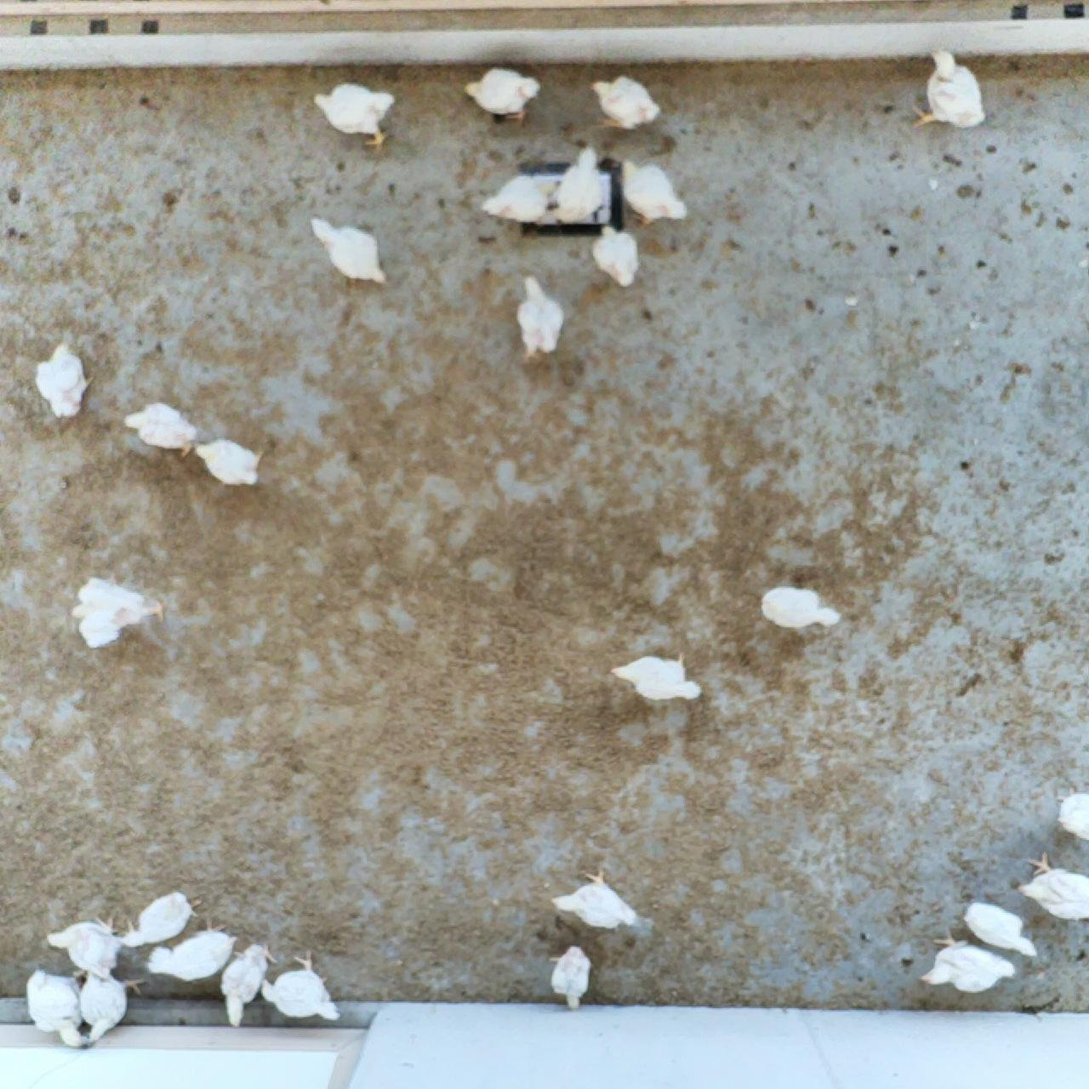chicken: (71, 577, 162, 649), (918, 928, 1012, 994), (308, 218, 391, 285), (148, 921, 237, 981), (547, 869, 637, 927), (918, 49, 984, 128), (316, 81, 396, 145), (263, 950, 339, 1015), (1023, 850, 1089, 924), (121, 402, 204, 460), (35, 338, 94, 419), (77, 971, 145, 1041), (620, 159, 690, 226), (480, 173, 567, 226), (220, 943, 274, 1028), (614, 651, 700, 704), (516, 275, 565, 368), (25, 972, 85, 1046), (961, 898, 1036, 957), (47, 919, 120, 978), (467, 66, 540, 123), (121, 888, 198, 941), (553, 145, 607, 220), (590, 74, 663, 128), (758, 584, 842, 626), (191, 437, 261, 487), (592, 223, 643, 289), (547, 945, 590, 1009), (1058, 783, 1089, 845)
